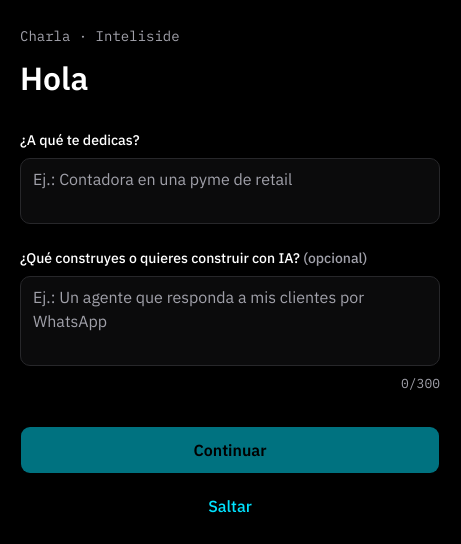
Test: PantallaPerfil (falta_perfil) › un error de red se muestra en línea, sin texto técnico
Type "Contador" into the text box labelled "¿A qué te dedicas?".
click(230, 191); type("Contador")  # box 20,158 -> 440,224
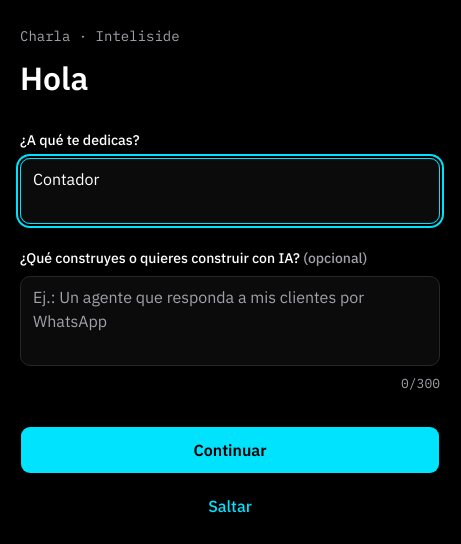
Click the button "Continuar".
click(230, 450)  # box 20,426 -> 440,474
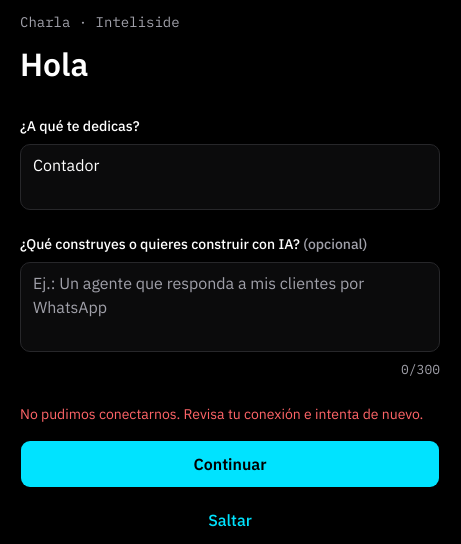
Result: the message shows "conexión" at 20,405 -> 423,423
